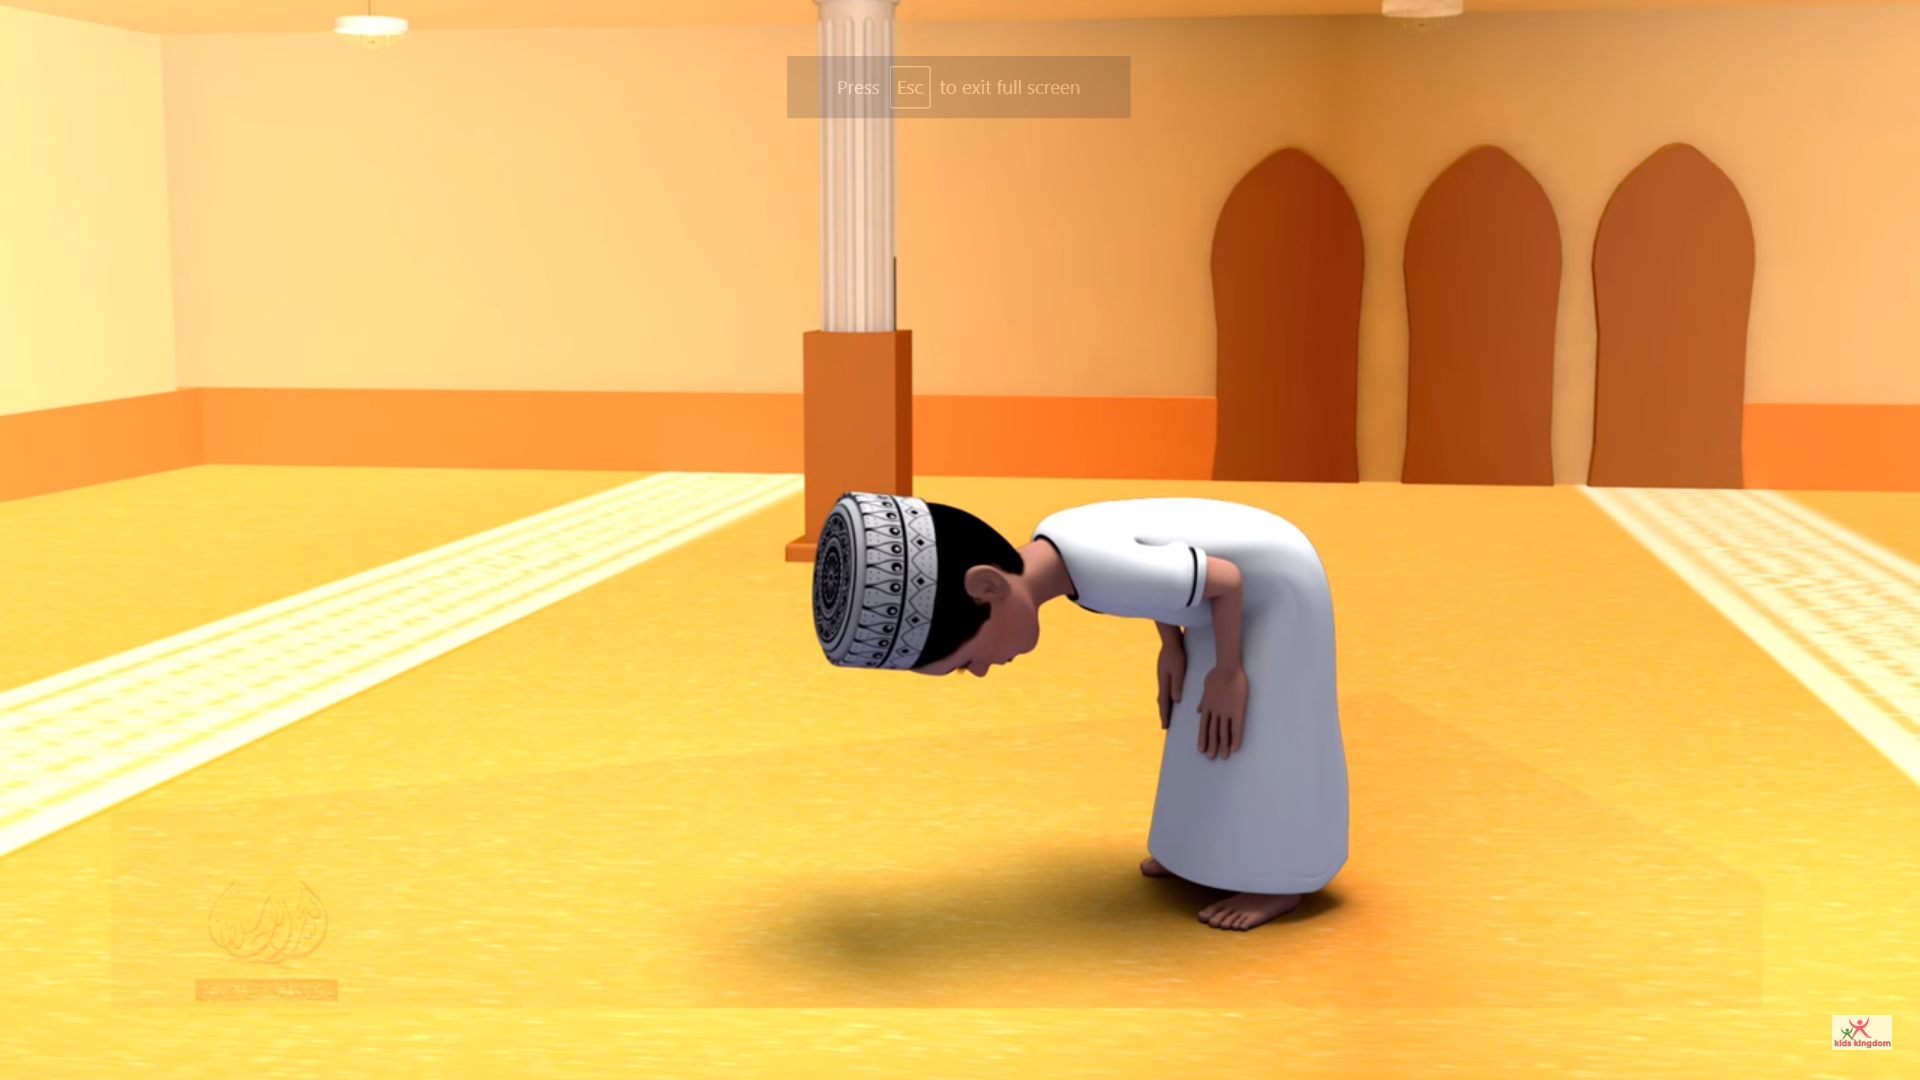ruku: (531, 436, 1563, 1033)
